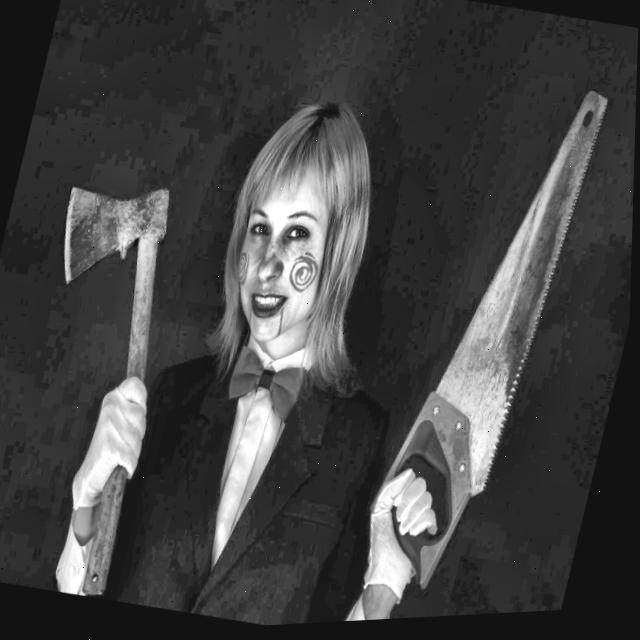kapak: (56, 173, 174, 594)
